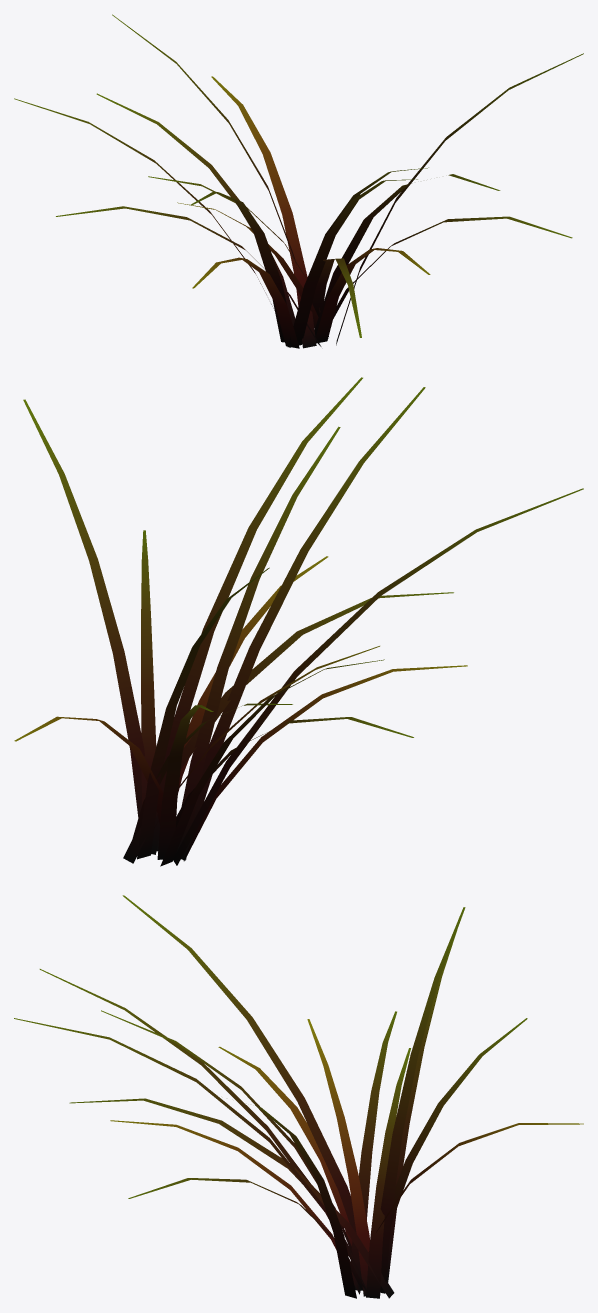
The model's file is elephant_grass_a.glb.
3 renders of one model, top to bottom at view 1: azimuth 30°, elevation 25°; view 2: azimuth 150°, elevation 25°; view 3: azimuth 270°, elevation 25°, orthographic. The views are drawn at different scales.
Parts seen in each view (by area): view 1: elephant_grass_a; view 2: elephant_grass_a; view 3: elephant_grass_a.
Part boxes in pixels (x1,y1,x2,y2): elephant_grass_a: (14, 14, 583, 348); elephant_grass_a: (14, 377, 583, 866); elephant_grass_a: (14, 895, 583, 1298).
Bounding box in the file's own units: 1.67 × 1.17 × 1.93.
Materials: 1 (1 with a texture image).
